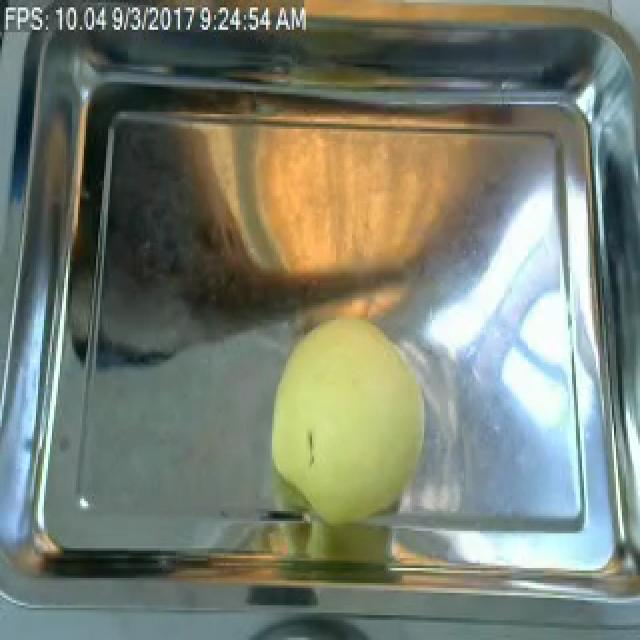Fruit: (260, 312, 440, 526)
